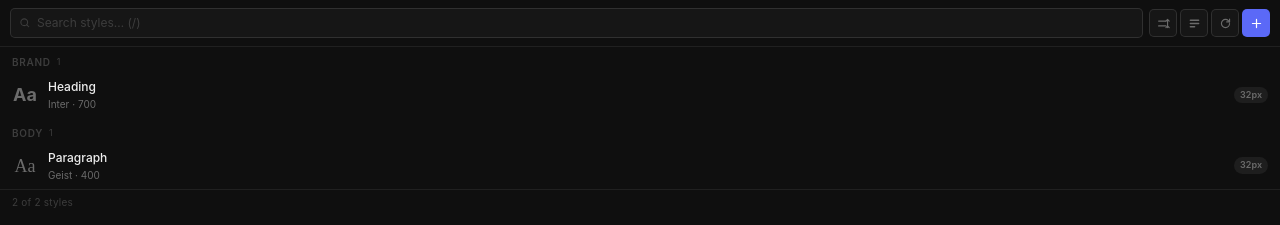
Test: TypographyTab › filters by search query
The image size is (1280, 225).
Expected: the text "Heading" is shown, 48,79 -> 96,94
Type "Body" into the field with placeholder "Search styles… (/)". click: (586, 23)
box: 37,15 -> 1134,31
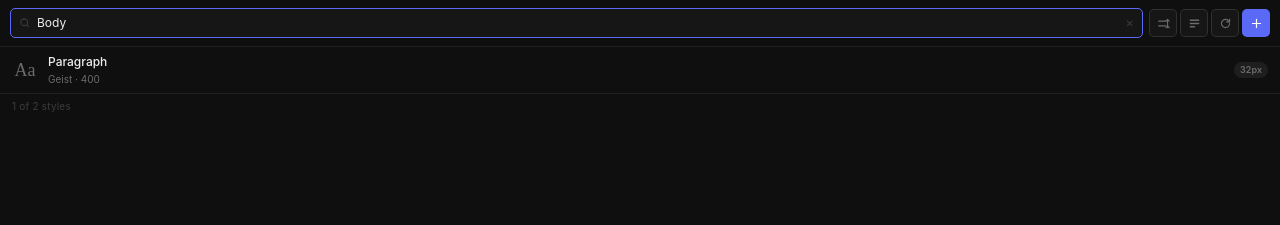
Expected: the text "Paragraph" is shown, 48,54 -> 107,69
Result: the text "Heading" is gone
